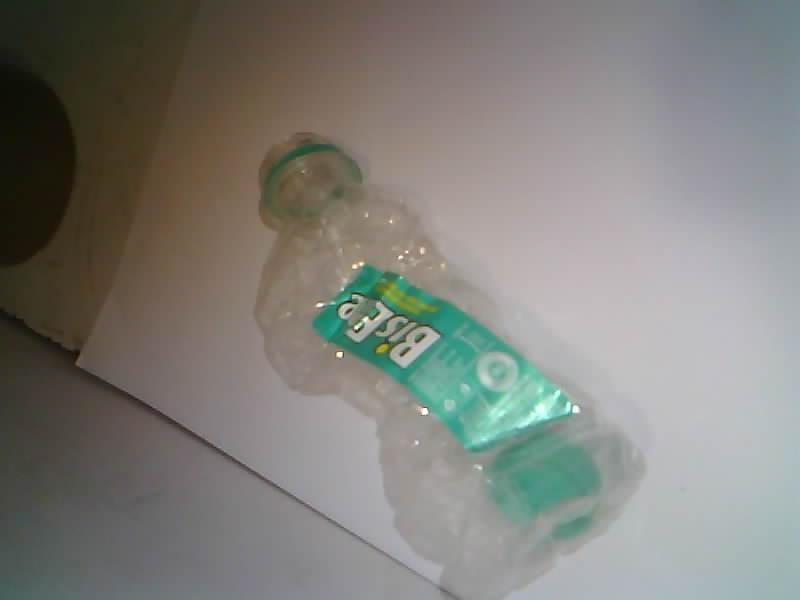non-biodegradable: (255, 135, 644, 599)
